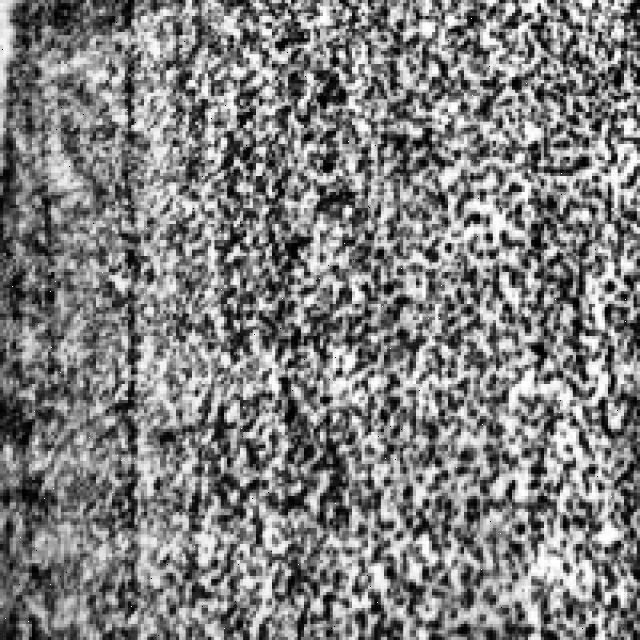Rolled_in_Scale: (6, 0, 636, 630)
